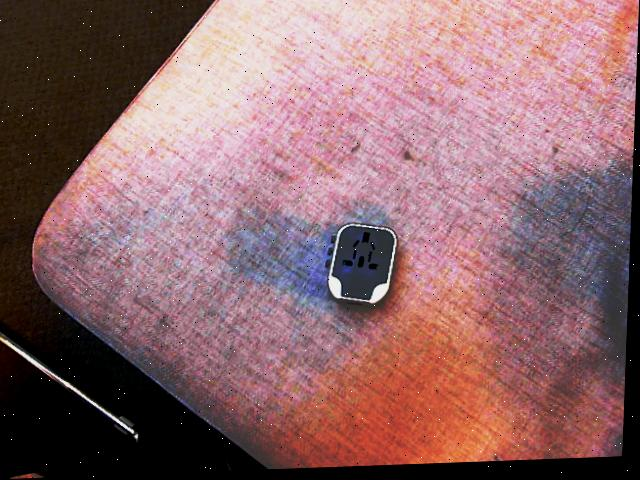adapter: (326, 224, 400, 310)
